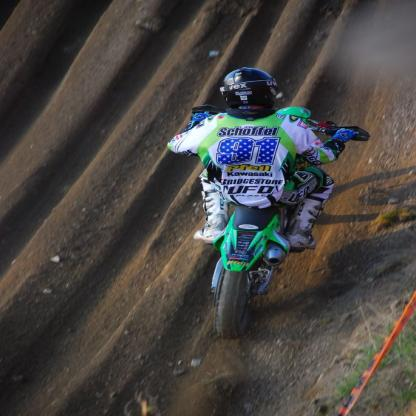Helmet: (225, 66, 282, 108)
